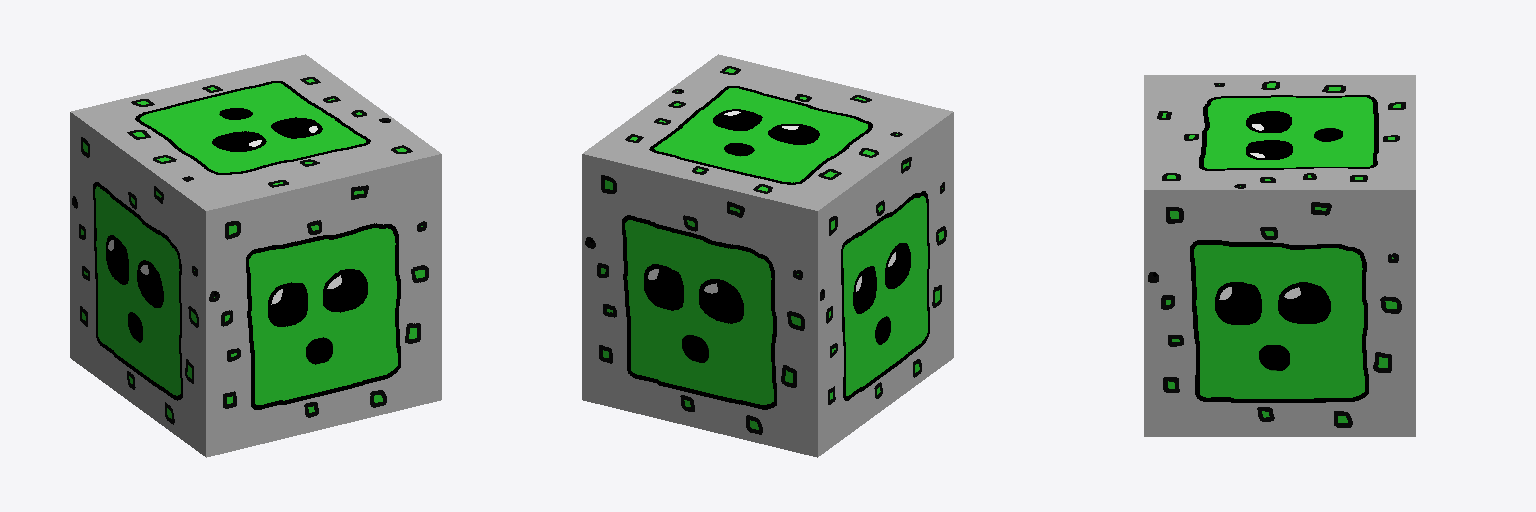
3 renders of one model, left to right at view 1: azimuth 30°, elevation 25°; view 2: azimuth 150°, elevation 25°; view 3: azimuth 270°, elevation 25°, orthographic.
Parts seen in each view (by area): view 1: Cube; view 2: Cube; view 3: Cube.
Part boxes in pixels (x1,y1,x2,y2): Cube: (70,54,441,457); Cube: (582,54,953,457); Cube: (1144,75,1415,436).
Size of the model in its own units: 1 by 1 by 1.
Materials: 1 (1 with a texture image).